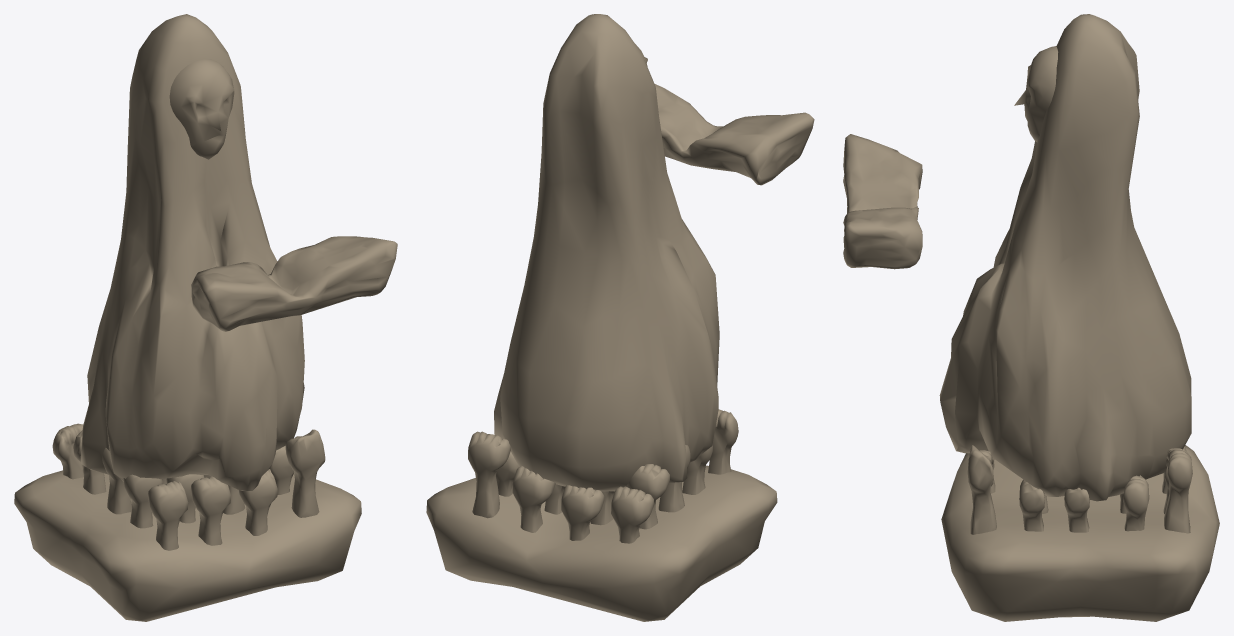
Rendered from necromancer.glb.
3 views of the same model, side by side, from view 1: azimuth 30°, elevation 25°; view 2: azimuth 150°, elevation 25°; view 3: azimuth 270°, elevation 25° (orthographic).
Parts seen in each view (by area): view 1: necromancer; view 2: necromancer; view 3: necromancer.
Part boxes in pixels (left/top/right/bottom): necromancer: left=14, top=14, right=397, bottom=621; necromancer: left=426, top=14, right=814, bottom=621; necromancer: left=843, top=14, right=1219, bottom=621.
Size of the model in its own units: 0.8657 by 1.8 by 1.09.
